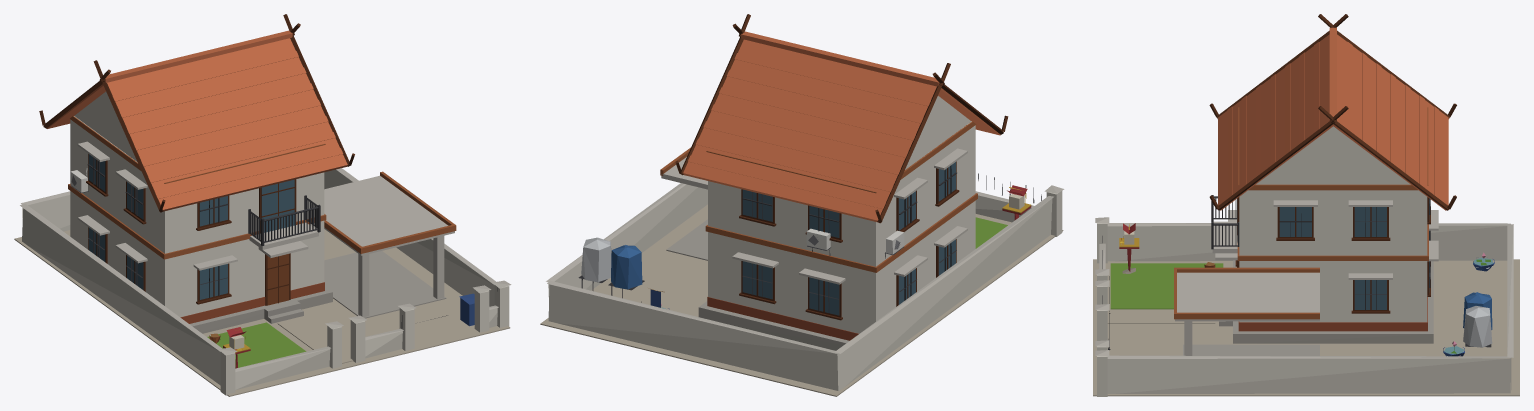
The model's file is house12_2.glb.
3 renders of one model, left to right at view 1: azimuth 30°, elevation 25°; view 2: azimuth 150°, elevation 25°; view 3: azimuth 270°, elevation 25°, orthographic. The views are drawn at different scales.
Visible parts, largest first — view 1: body, windows; view 2: body, windows; view 3: body, windows.
Boxes of the visible parts, <box> form: body: <box>14,14,511,396</box>; windows: <box>89,154,294,299</box>; body: <box>540,14,1064,396</box>; windows: <box>742,162,955,315</box>; body: <box>1093,14,1519,396</box>; windows: <box>1237,198,1429,309</box>.
Bounding box in the file's own units: 12.44 × 10.27 × 15.9.
